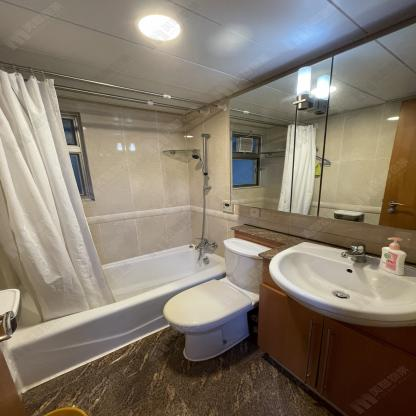Bathtub: (1, 243, 225, 391)
Exhaust Fan: (235, 135, 255, 155)
Toilet: (163, 237, 274, 360)
Toilet Sink: (266, 239, 416, 334)
